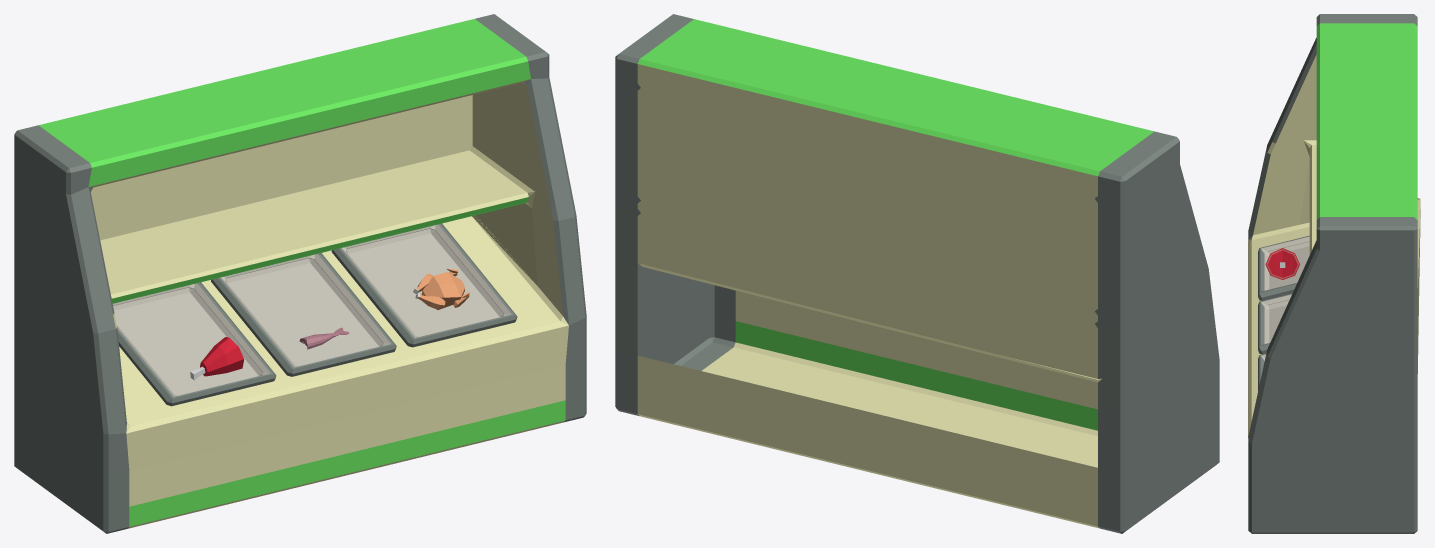
The model's file is E_Kasapfbx_c.fbx.
3 renders of one model, left to right at view 1: azimuth 30°, elevation 25°; view 2: azimuth 150°, elevation 25°; view 3: azimuth 270°, elevation 25°, orthographic. The views are drawn at different scales.
Parts seen in each view (by area): view 1: KasapReyon, Tavuk, Et; view 2: KasapReyon; view 3: KasapReyon, Et.
Boxes of the visible parts, x1,y1,x2,y2 form: KasapReyon: (14,14,586,533); Tavuk: (413,268,469,309); Et: (190,337,244,380); KasapReyon: (615,14,1219,533); KasapReyon: (1248,14,1420,533); Et: (1265,248,1299,279).
Bounding box in the file's own units: 301 × 201 × 102.
